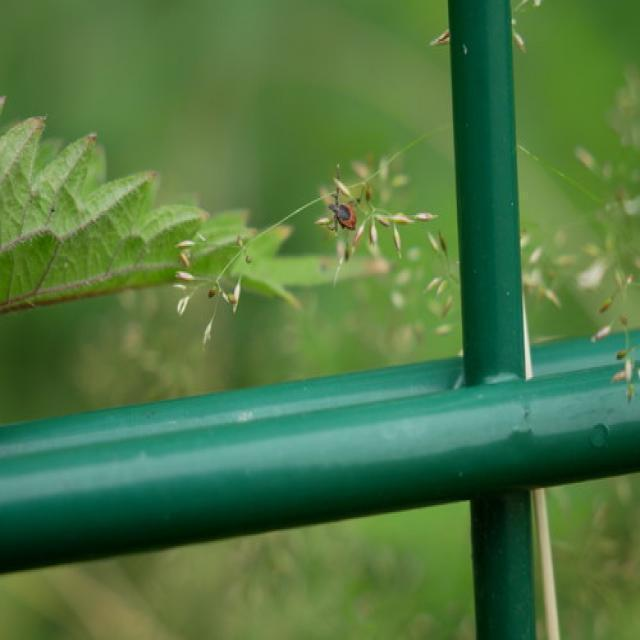Ixodes Ricinus-F: (314, 164, 431, 259)
